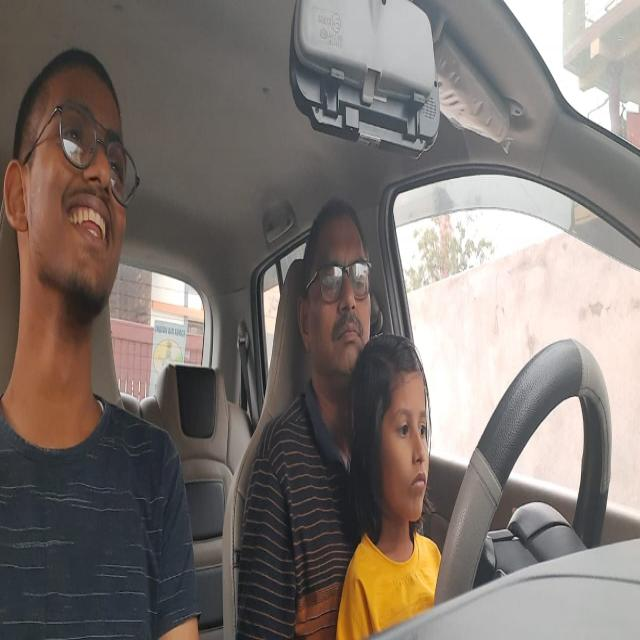child: (351, 334, 434, 534)
drowsy: (300, 190, 370, 402)
person: (9, 50, 137, 342)
